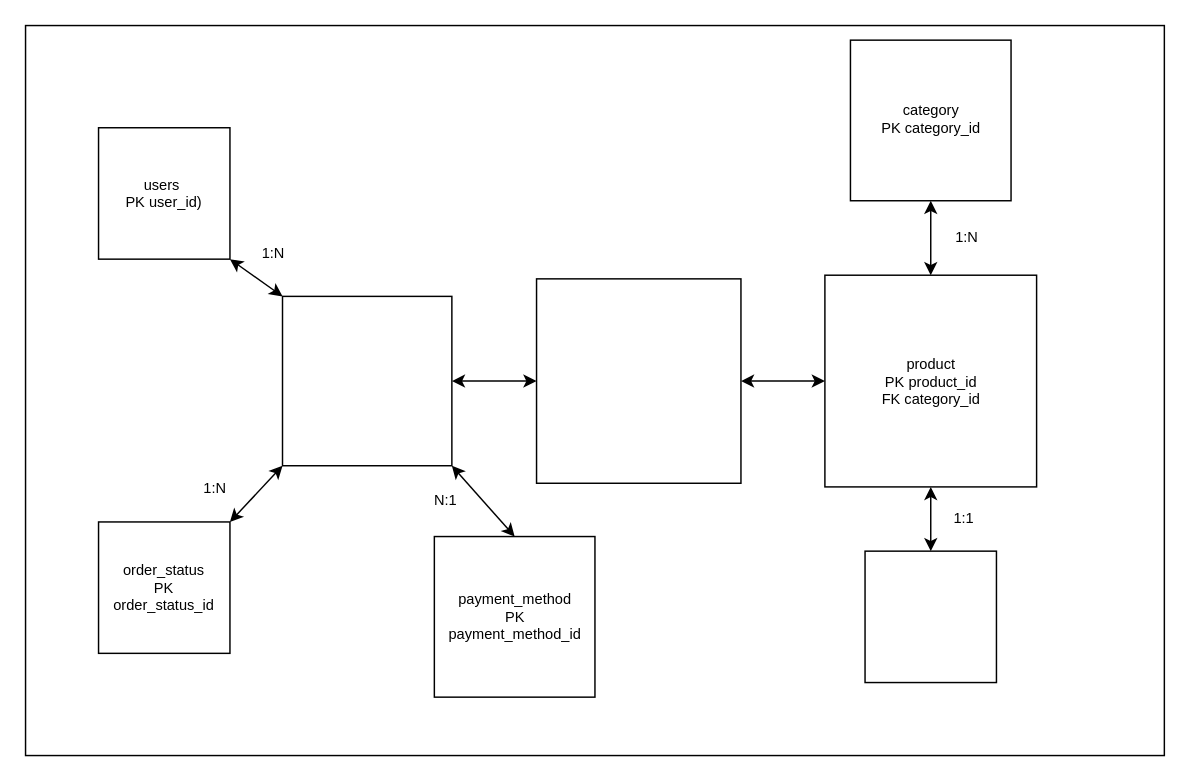
Image size: 1190x781. Some labels were removed from this diagram. The centre of each missing label's shape, as x and y in pixels:
"inventory PK FK product_id" belongs at [930,616].
"order_product PK FK order_id PK FK product_id" belongs at [638,380].
"orders PK order_id FK user_id FK order_status_id FK payment_method_id" belongs at [366,380].
